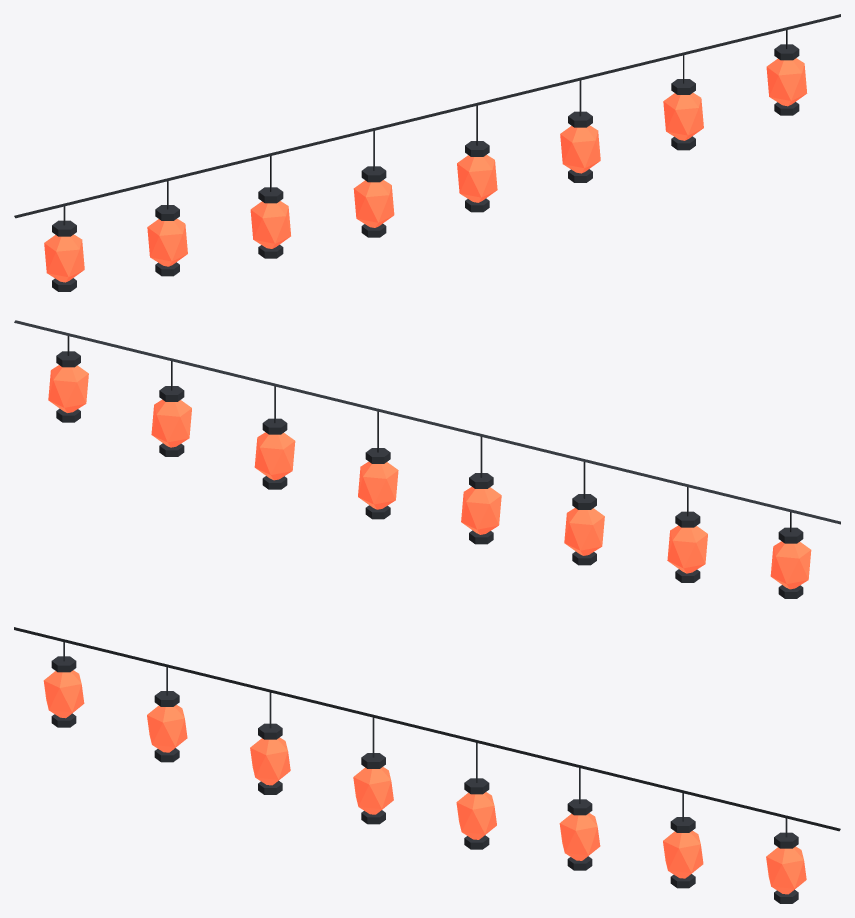
File: lyktsnore.glb
The picture shows the model from 3 angles, top to bottom: view 1: azimuth 30°, elevation 25°; view 2: azimuth 150°, elevation 25°; view 3: azimuth 330°, elevation 25°; orthographic projection.
Parts seen in each view (by area): view 1: lyktsnore; view 2: lyktsnore; view 3: lyktsnore.
Boxes of the visible parts, x1=… form: lyktsnore: x1=14, y1=14, x2=840, y2=291; lyktsnore: x1=14, y1=320, x2=840, y2=598; lyktsnore: x1=14, y1=627, x2=840, y2=903.
Bounding box in the file's own units: 10 × 1.22 × 0.4083.
